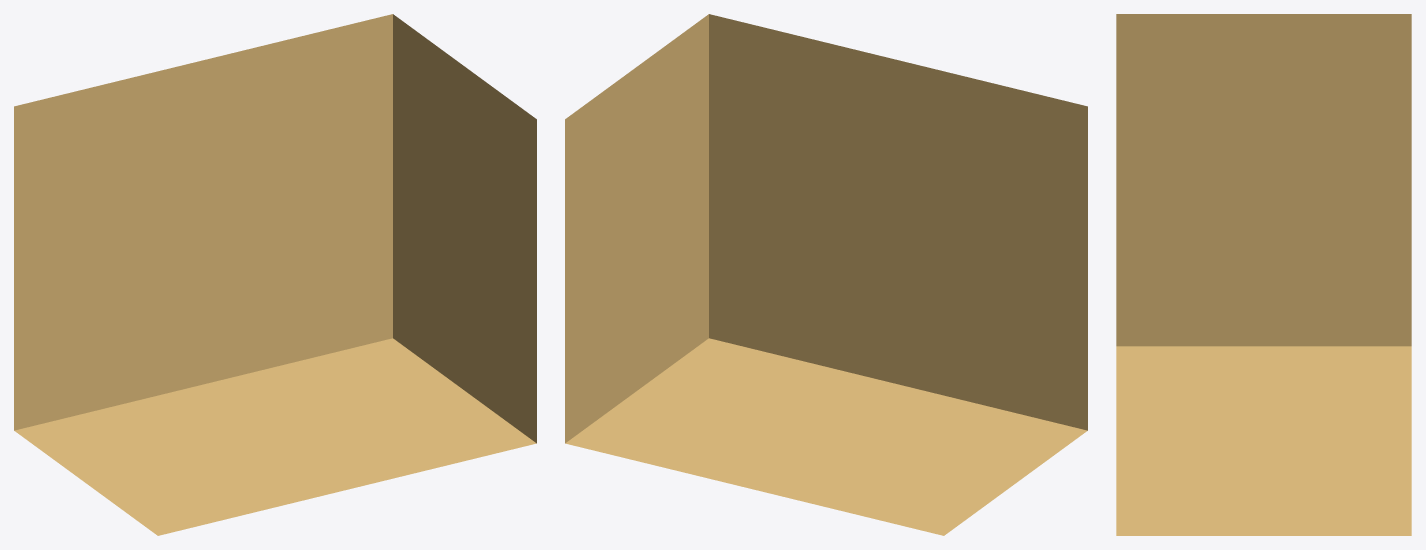
Rendered from decor-props-hemant-samwat-008.glb.
3 renders of one model, left to right at view 1: azimuth 30°, elevation 25°; view 2: azimuth 150°, elevation 25°; view 3: azimuth 270°, elevation 25°, orthographic. The views are drawn at different scales.
Visible parts, largest first — view 1: Hemant Samwat Decor Props; view 2: Hemant Samwat Decor Props; view 3: Hemant Samwat Decor Props.
Part boxes in pixels (x1,y1,x2,y2): Hemant Samwat Decor Props: [14, 14, 536, 535]; Hemant Samwat Decor Props: [565, 14, 1087, 535]; Hemant Samwat Decor Props: [1116, 14, 1411, 535].
Size of the model in its own units: 2.25 by 1.84 by 1.48.
